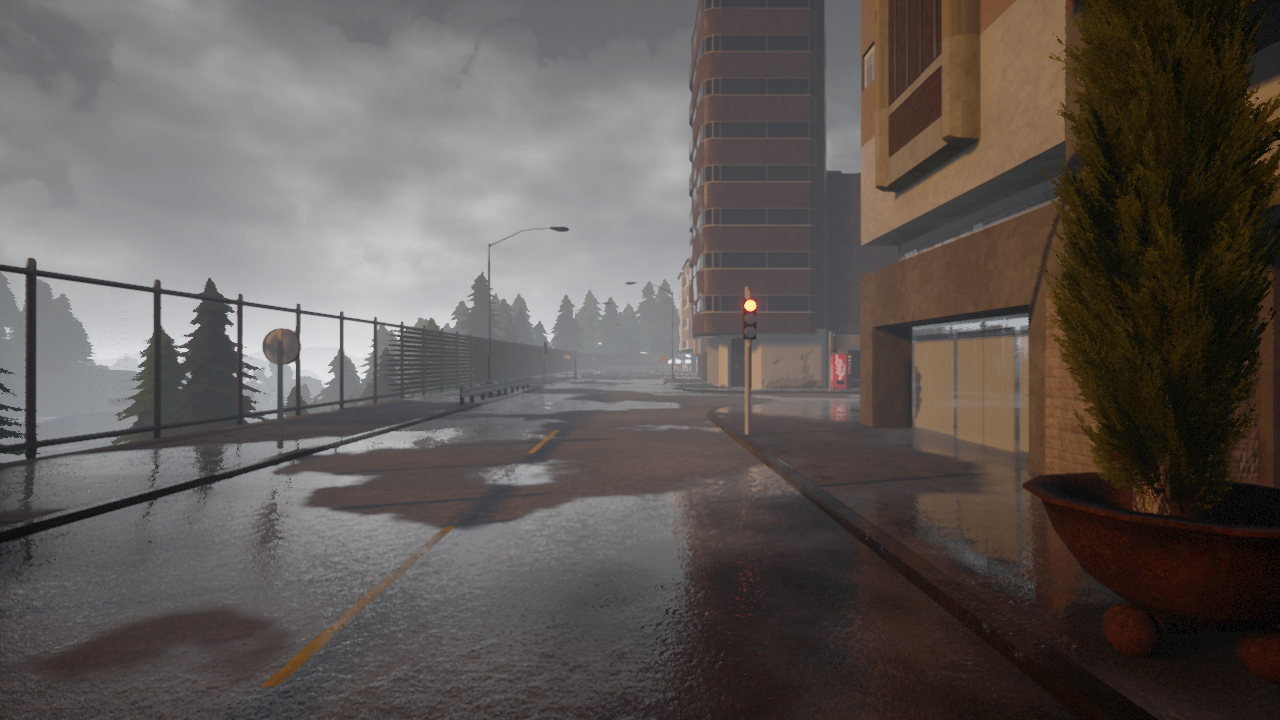red: (741, 298, 759, 339)
